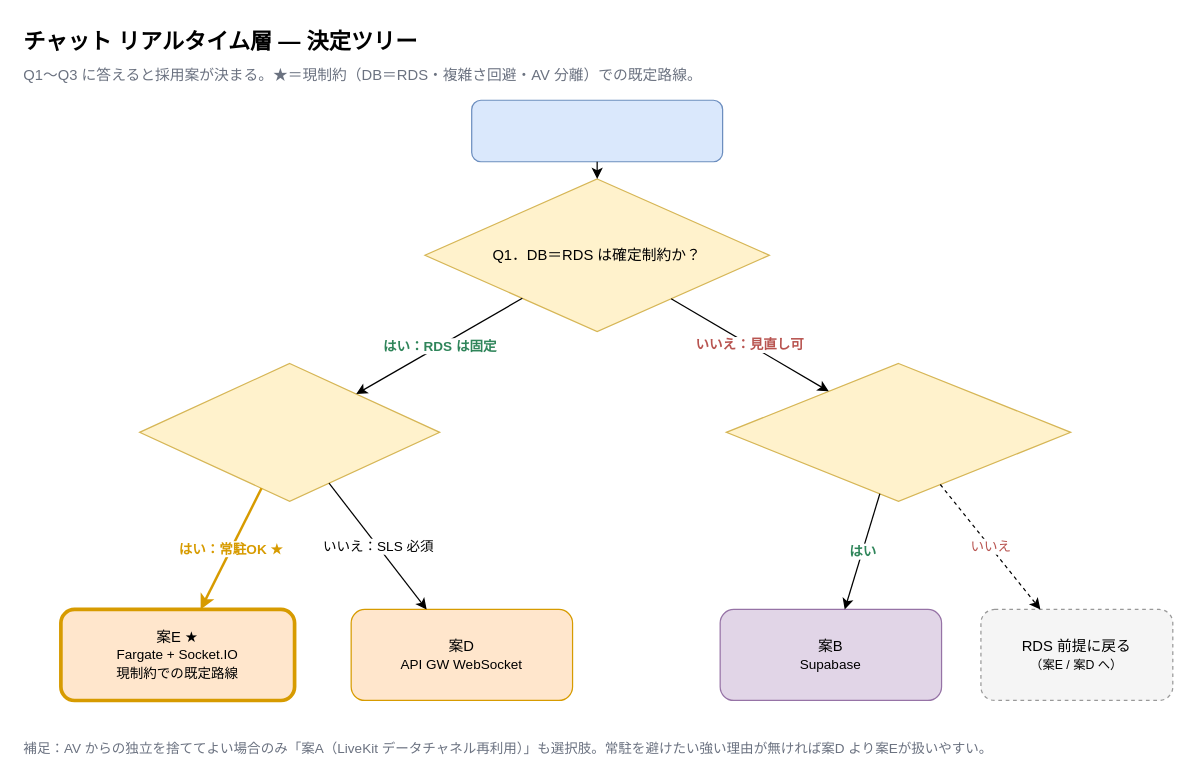
Image size: 1198x777. Some labels were removed from this diagram. The centre of each missing label's shape, as x and y in pixels:
"Q2．24/7 常駐コンテナを許容？" goes at (x=289, y=431).
"Q3．最速・最小運用を最優先＆データを Supabase に置ける？" goes at (x=898, y=431).
"チャット配信層を決める" goes at (x=596, y=130).
